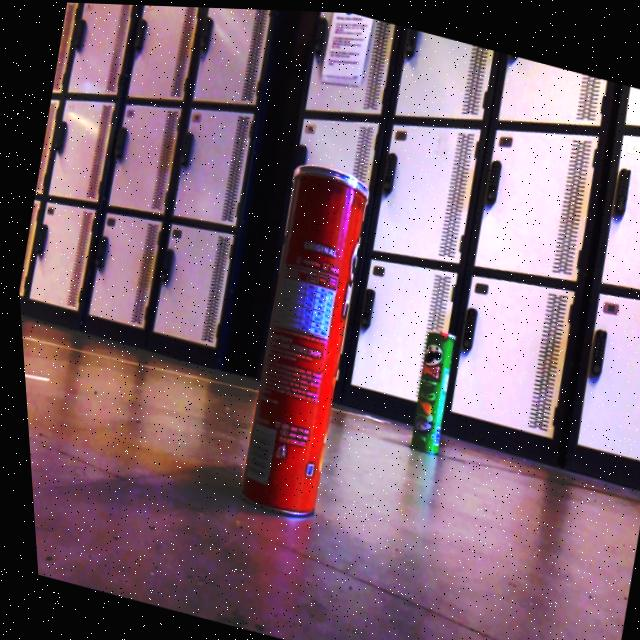greenpringles: (382, 313, 474, 461)
redpringles: (200, 129, 398, 536)
